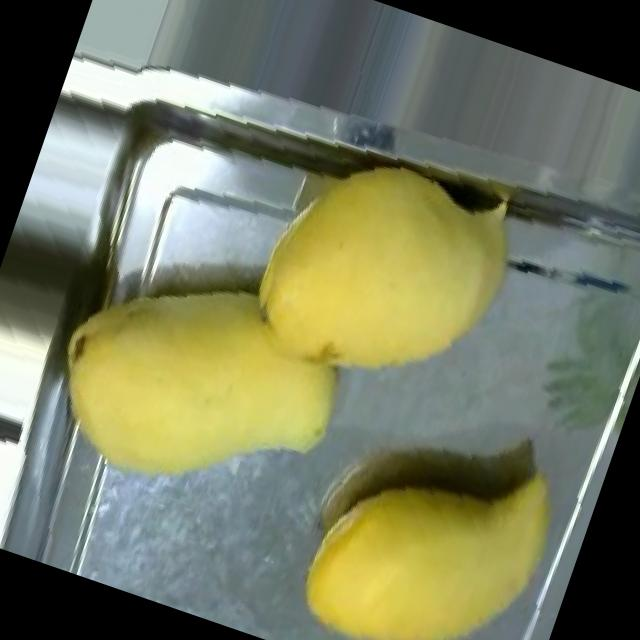fruit: (16, 223, 386, 542), (218, 118, 546, 434), (273, 437, 569, 640)
